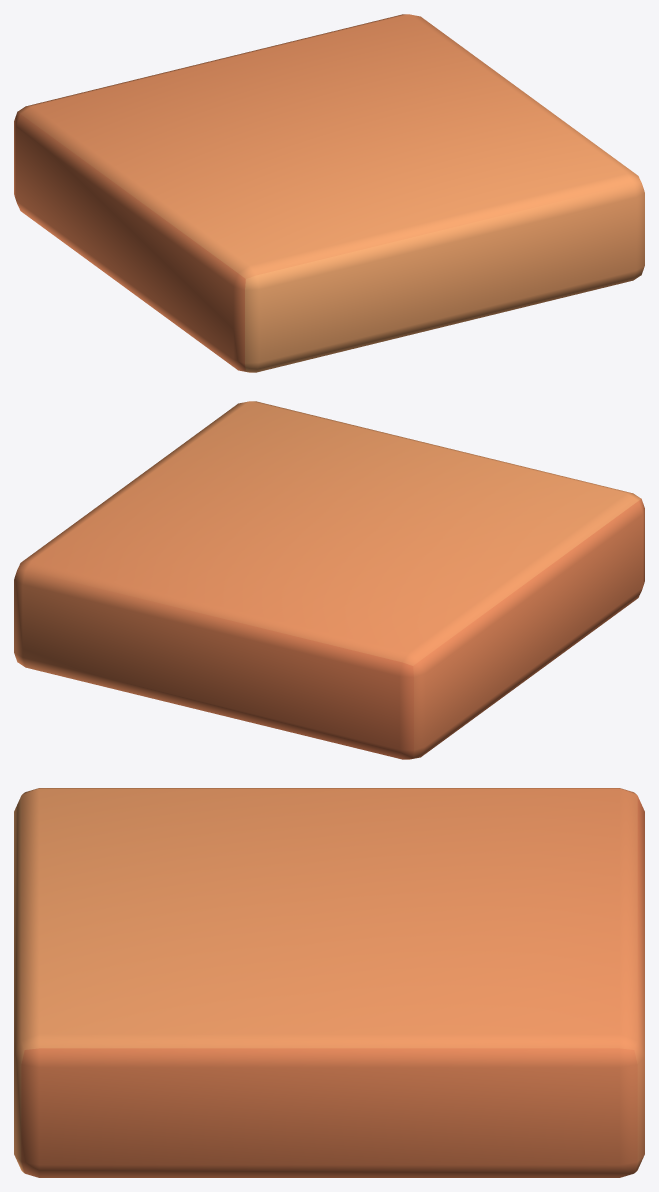
Rendered from TileRed.fbx.
3 renders of one model, top to bottom at view 1: azimuth 30°, elevation 25°; view 2: azimuth 150°, elevation 25°; view 3: azimuth 270°, elevation 25°, orthographic. The views are drawn at different scales.
Visible parts, largest first — view 1: Cube.001; view 2: Cube.001; view 3: Cube.001.
Part boxes in pixels (x1=…): Cube.001: x1=14, y1=14, x2=644, y2=372; Cube.001: x1=14, y1=401, x2=644, y2=759; Cube.001: x1=14, y1=788, x2=644, y2=1177.
Size of the model in its own units: 150 by 37.5 by 150.
